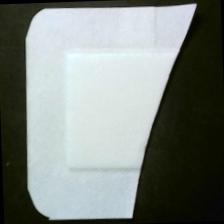Cut: (20, 2, 210, 223)
